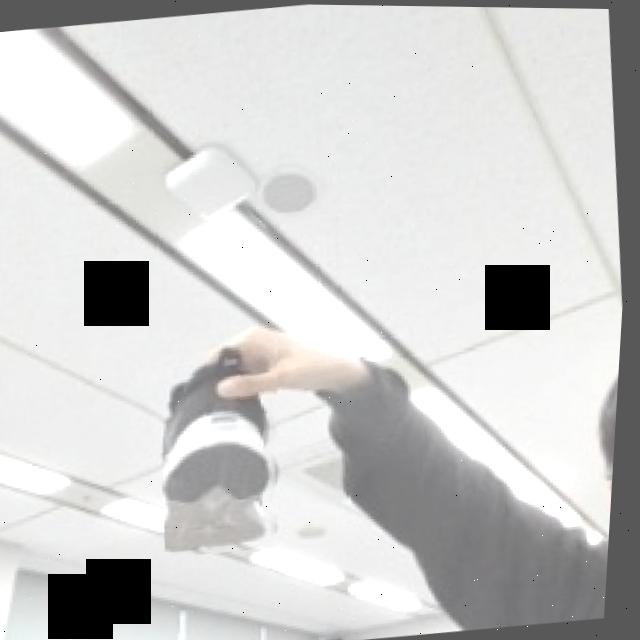shoe: (150, 329, 304, 558)
